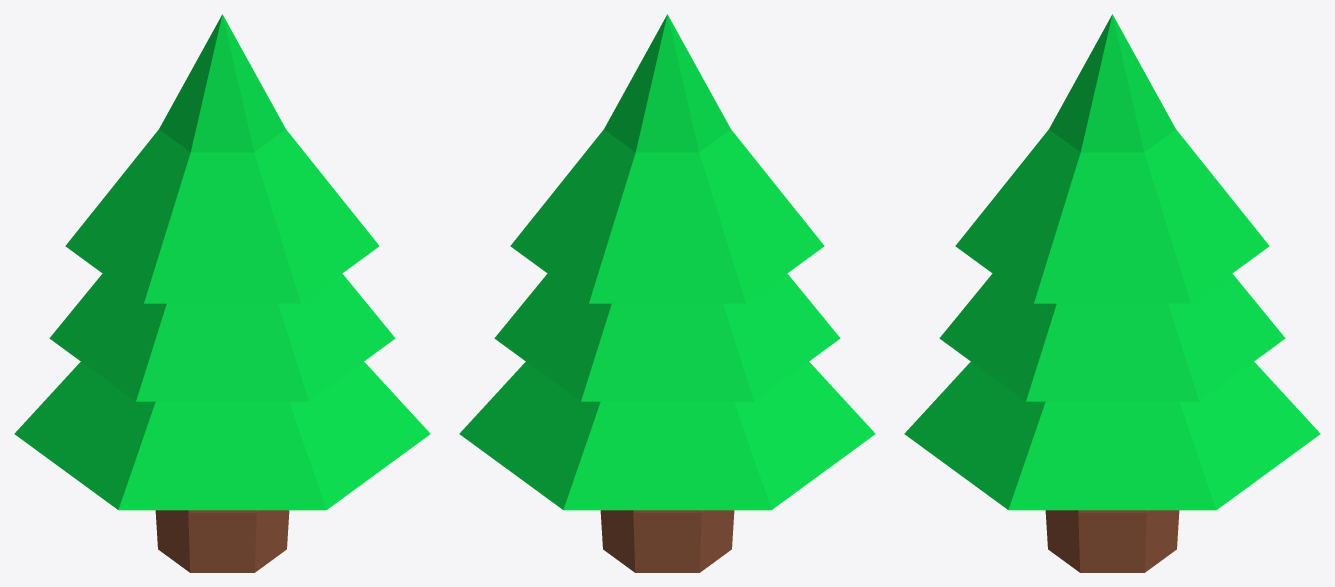
File: tree_green.glb
The picture shows the model from 3 angles, left to right: view 1: azimuth 30°, elevation 25°; view 2: azimuth 150°, elevation 25°; view 3: azimuth 270°, elevation 25°; orthographic projection.
Parts seen in each view (by area): view 1: treetop_b_green, trunk_b_green; view 2: treetop_b_green, trunk_b_green; view 3: treetop_b_green, trunk_b_green.
Boxes of the visible parts, bbox=[...] form: treetop_b_green: bbox=[14, 14, 430, 510]; trunk_b_green: bbox=[155, 510, 289, 572]; treetop_b_green: bbox=[459, 14, 875, 510]; trunk_b_green: bbox=[600, 510, 734, 572]; treetop_b_green: bbox=[904, 14, 1320, 510]; trunk_b_green: bbox=[1045, 510, 1179, 572].
Bounding box in the file's own units: 5.6 × 9.16 × 6.46.
